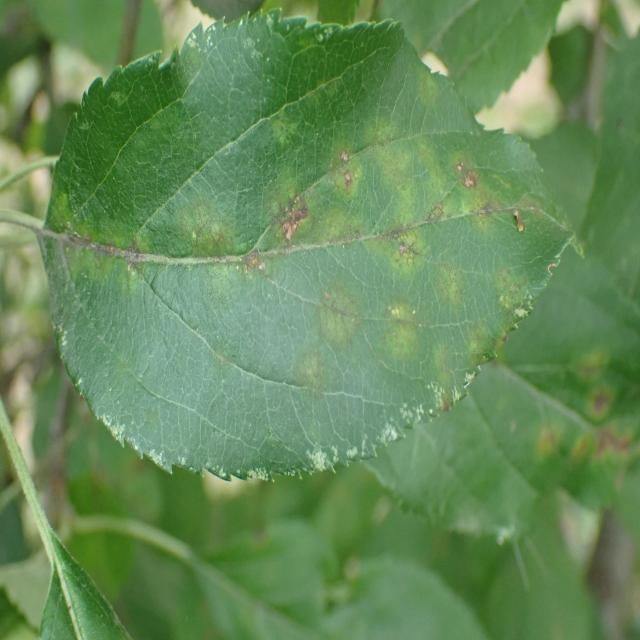scab: (34, 112, 575, 445), (530, 307, 640, 573)
